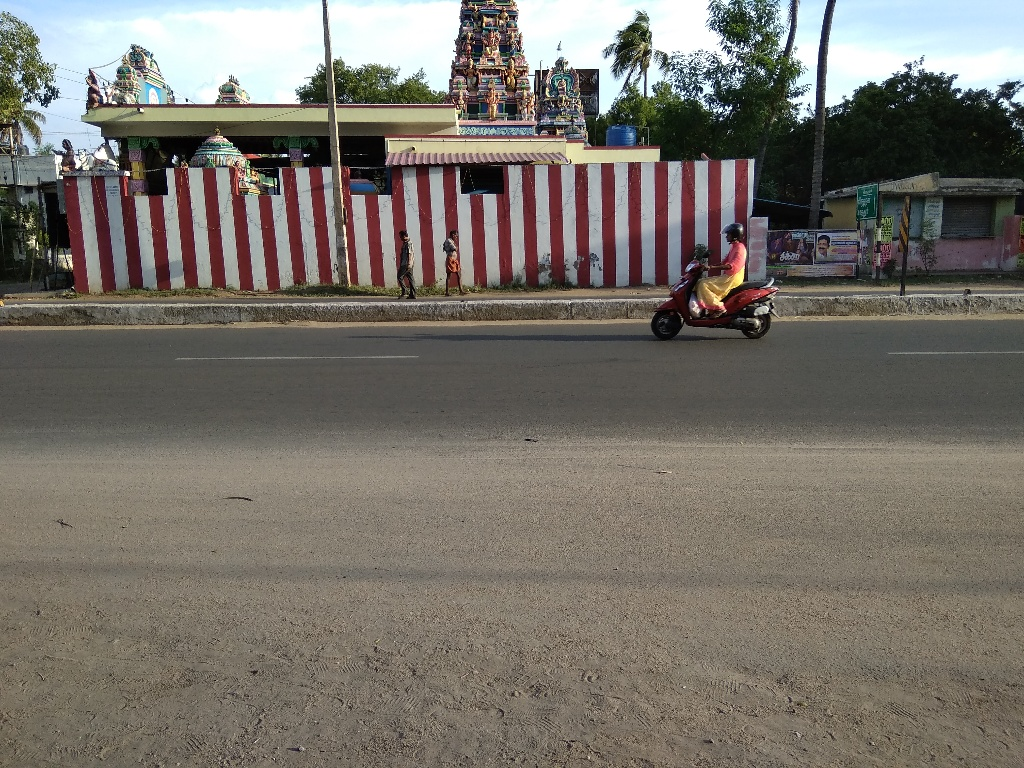biker: (642, 189, 794, 355)
helmet: (715, 206, 758, 254)
